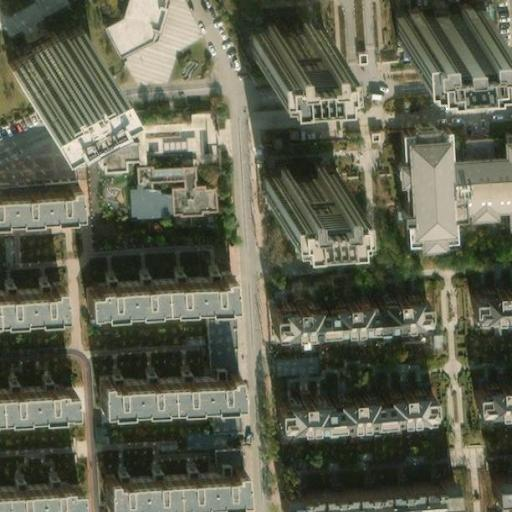building: (391, 121, 512, 244), (282, 470, 453, 507), (91, 361, 234, 403), (80, 263, 223, 305), (101, 461, 237, 502), (263, 288, 422, 322), (270, 384, 429, 417), (115, 148, 205, 204), (0, 7, 78, 71), (0, 134, 88, 190), (122, 94, 207, 151), (387, 0, 482, 44), (0, 194, 86, 229), (239, 12, 315, 50), (256, 161, 331, 199), (0, 473, 72, 509), (0, 376, 68, 410), (0, 277, 62, 311), (200, 319, 226, 372), (465, 279, 512, 308), (470, 376, 512, 404), (204, 392, 230, 424), (203, 443, 232, 471), (490, 462, 512, 495), (205, 491, 235, 512), (283, 500, 304, 512)
